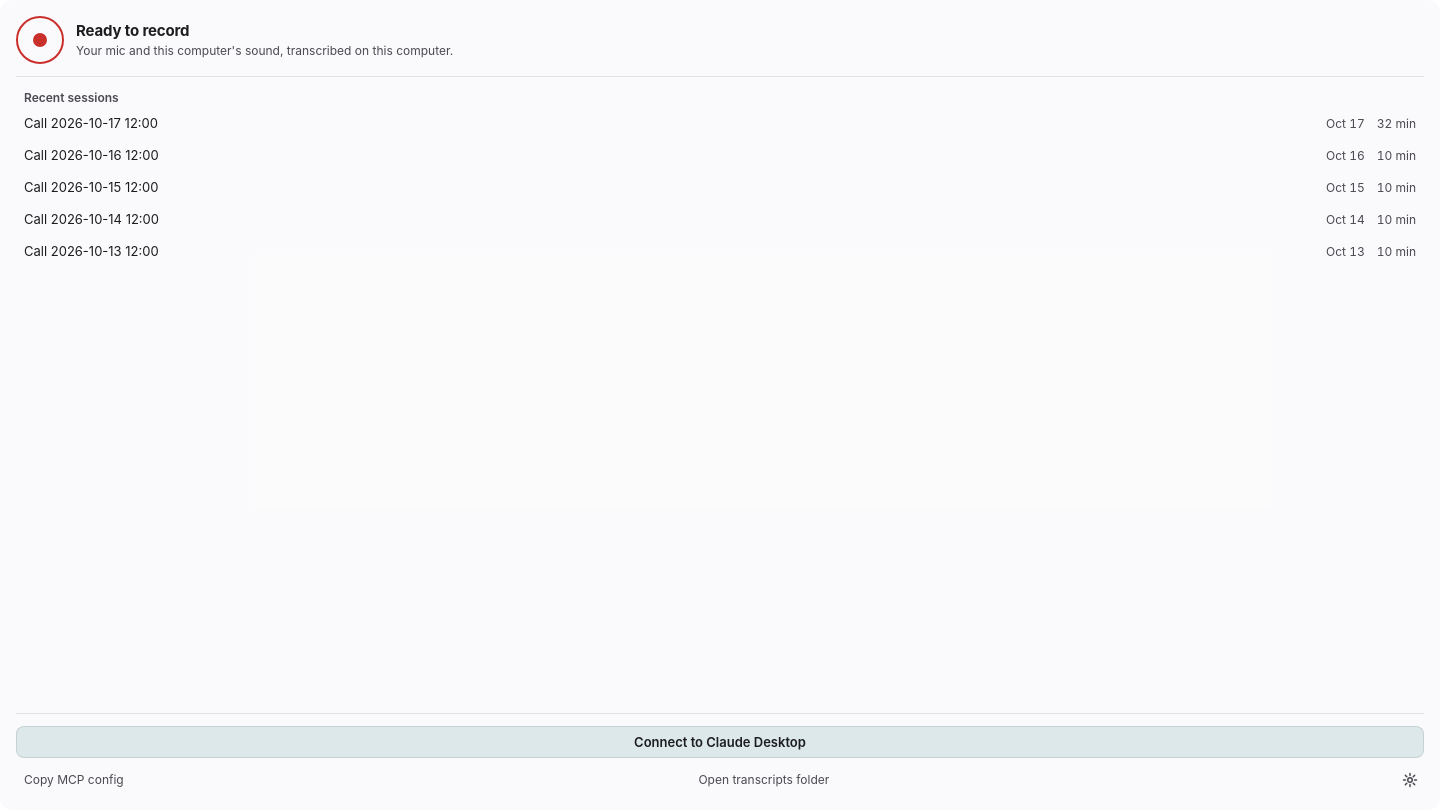
it: the popover while a shortcut is being rebound › keeps the popover open when Escape cancels the rebind
Click the button named "Settings".
click(1410, 780)  # box [1396,766,1424,794]
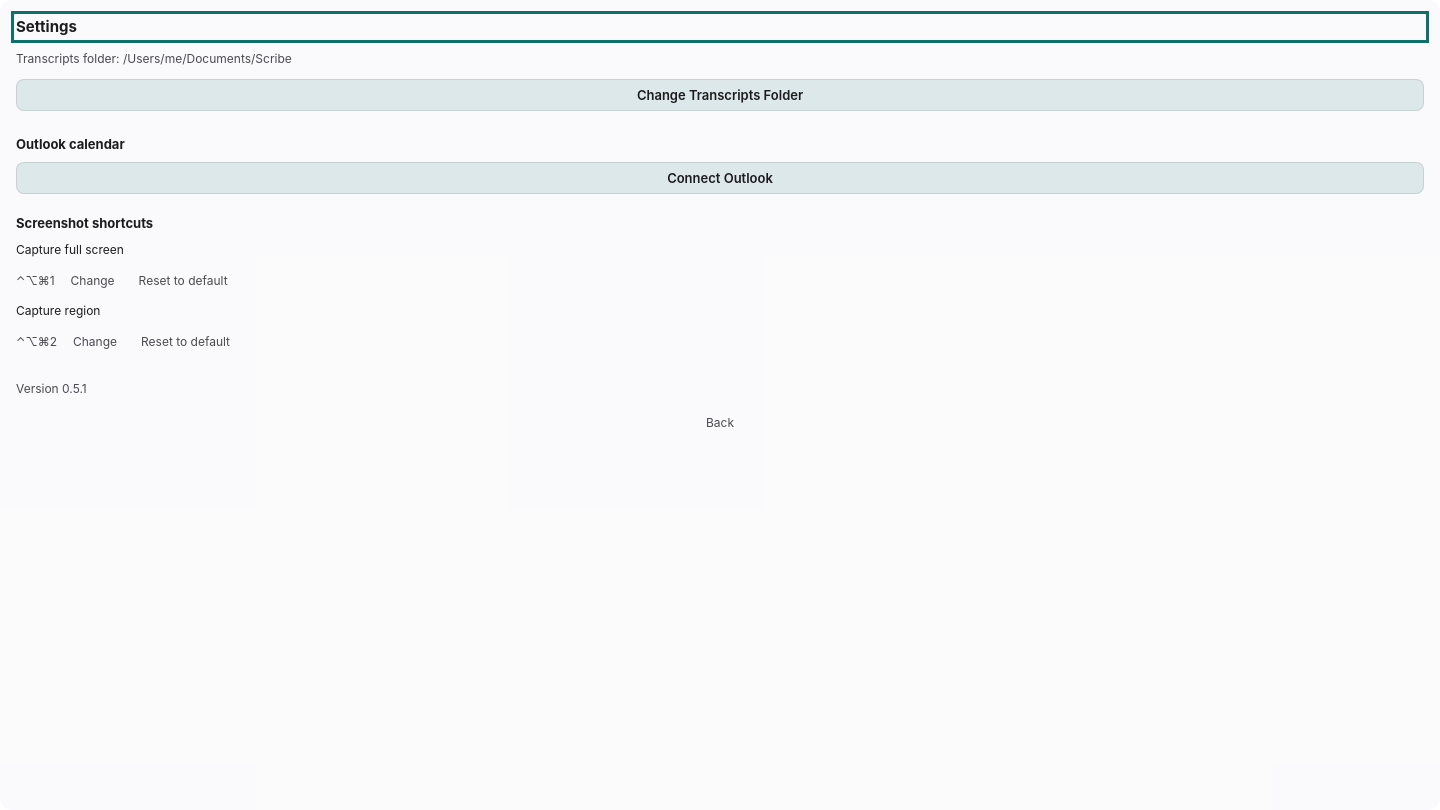
Click the button with aria-label "Change Capture region shortcut, currently ⌃⌥⌘2".
click(95, 342)  # box [65,328,125,356]
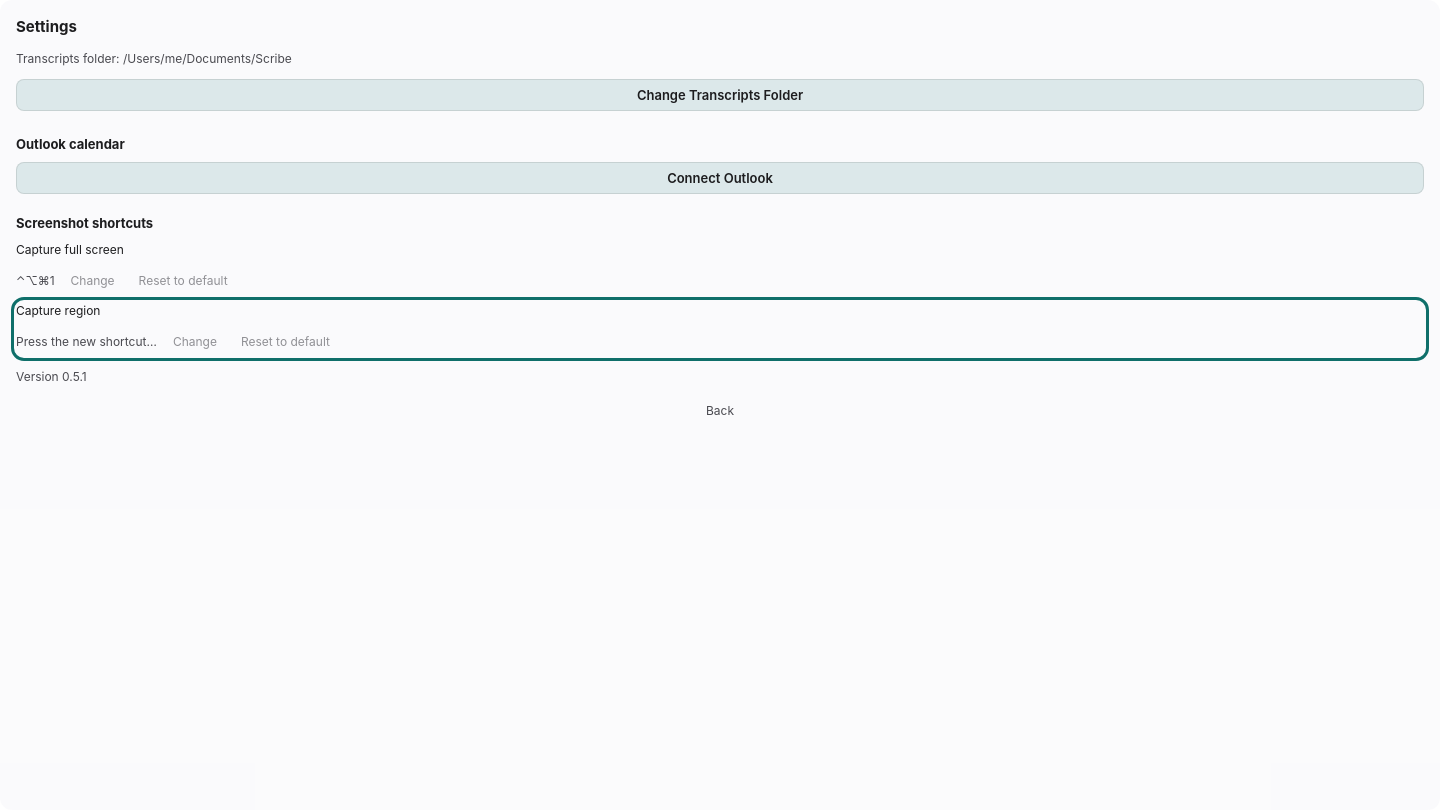
Press Escape
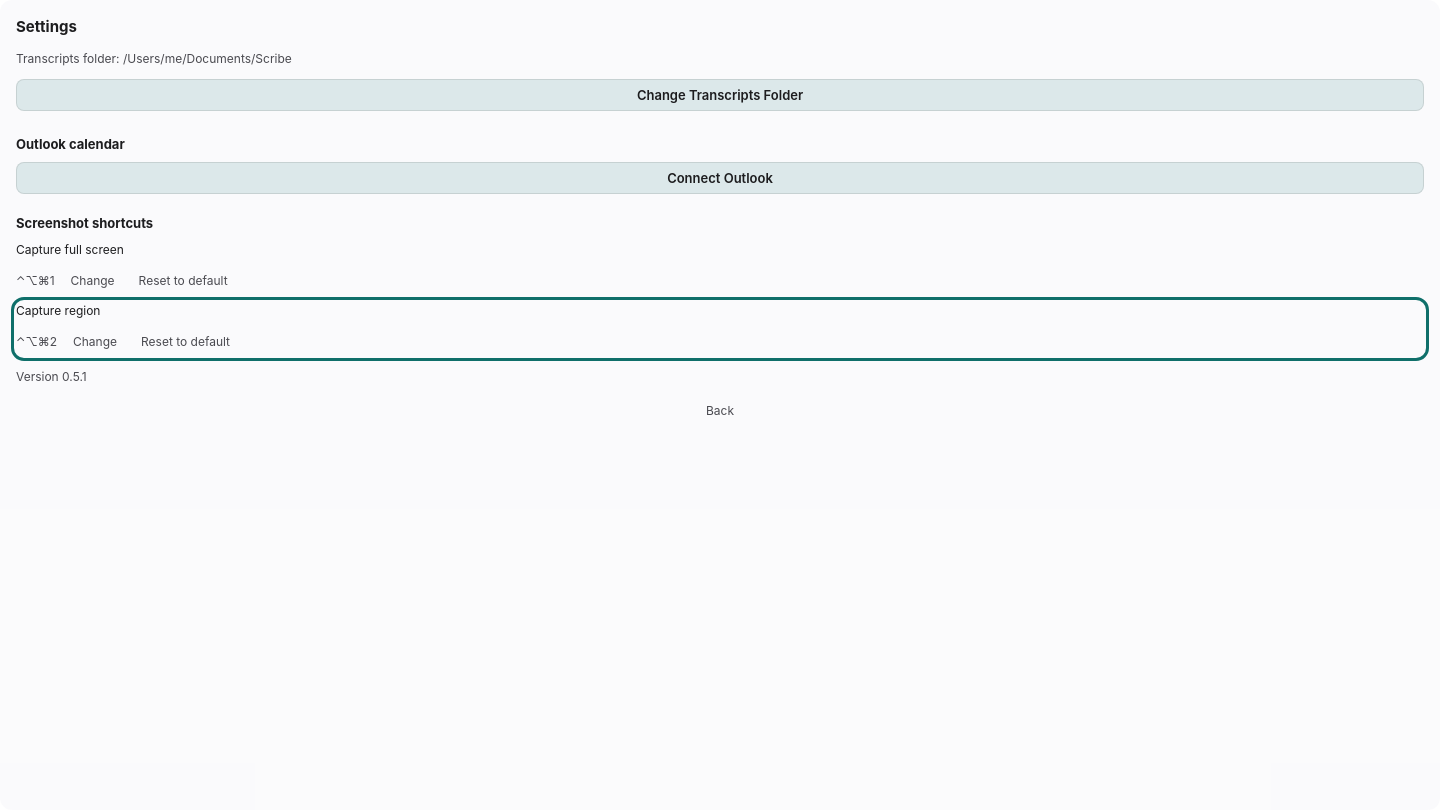
Expected: the text "Press the new shortcut…" is gone
